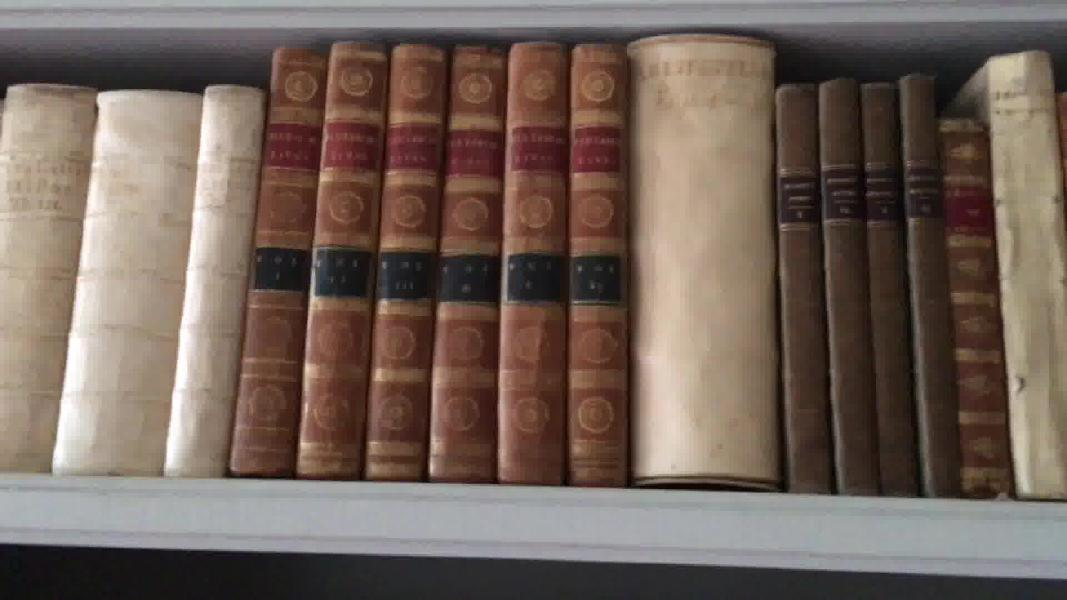Kk4-14: (622, 32, 777, 490)
Kk4-15_16: (770, 80, 881, 500)
Kk4-17_18: (854, 75, 961, 500)
Kk4-19: (931, 114, 1015, 503)
Kk4-20: (977, 53, 1067, 503)
Kk4-3_7: (1, 77, 273, 482)
Kk4-8_13: (223, 41, 646, 491)
